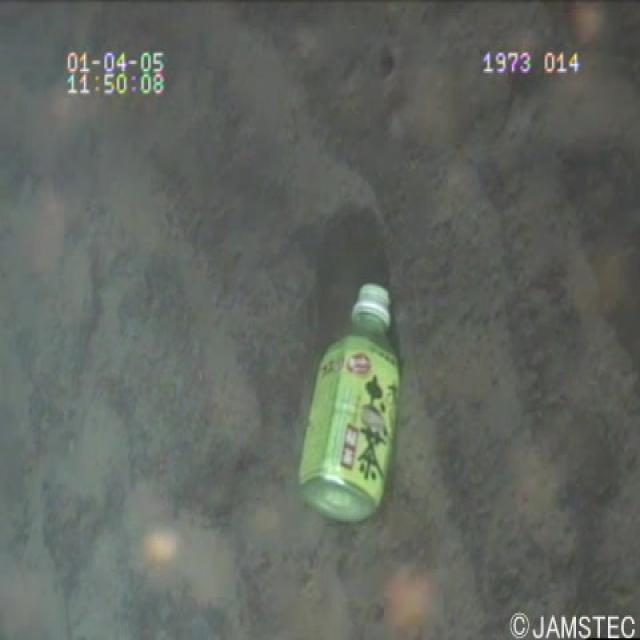plastic: (282, 258, 434, 551)
